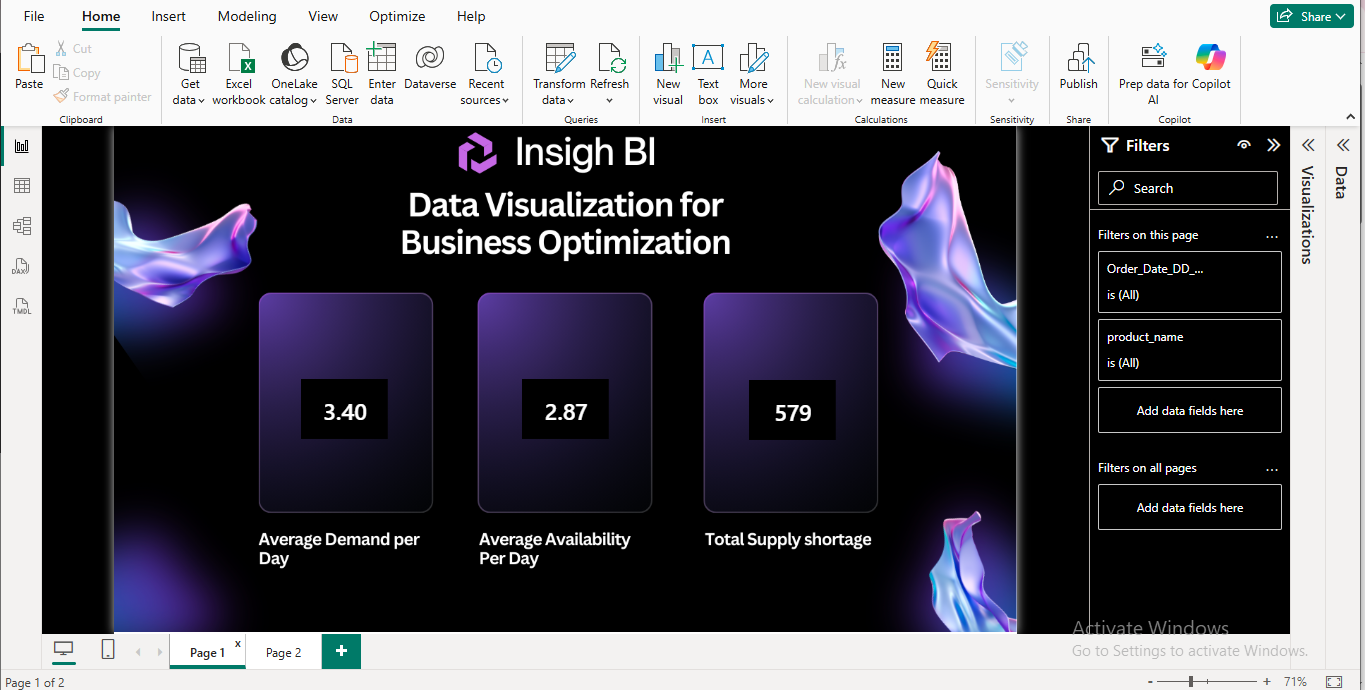

This screenshot's page, from the dashboard's own definition file:
{"tool":"powerbi","page":{"name":"Page 1","canvas":[1280,720],"ordinal":0},"visuals":[{"type":"cardVisual","fields":{"Data":["Measures Table.Average Availability Per Day"]},"box":[561.3,358.6,153.1,85],"z":0},{"type":"cardVisual","fields":{"Data":["Measures Table.Average Demand Per Day"]},"box":[246.6,358.6,141.7,85],"z":1000},{"type":"cardVisual","fields":{"Data":["Measures Table.Total Supply Shortage"]},"box":[900,360,123.3,85],"z":2000}]}

Visuals, with their boxes on the page's 1280x720 design canvas (x1, y1, x2, y2). These are canvas units, not pixel positions in the 1365x690 screenshot, which may show the page scaled, cropped or inside an application window:
cardVisual - Measures Table.Average Availability Per Day: x1=561, y1=359, x2=714, y2=444
cardVisual - Measures Table.Average Demand Per Day: x1=247, y1=359, x2=388, y2=444
cardVisual - Measures Table.Total Supply Shortage: x1=900, y1=360, x2=1023, y2=445
